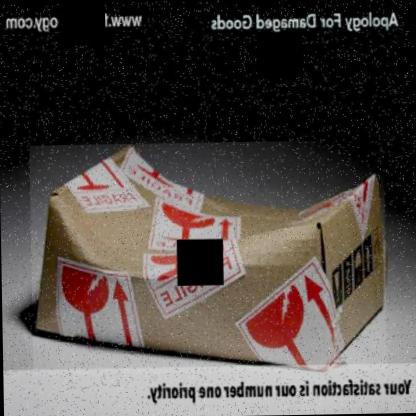box: (29, 139, 387, 375)
